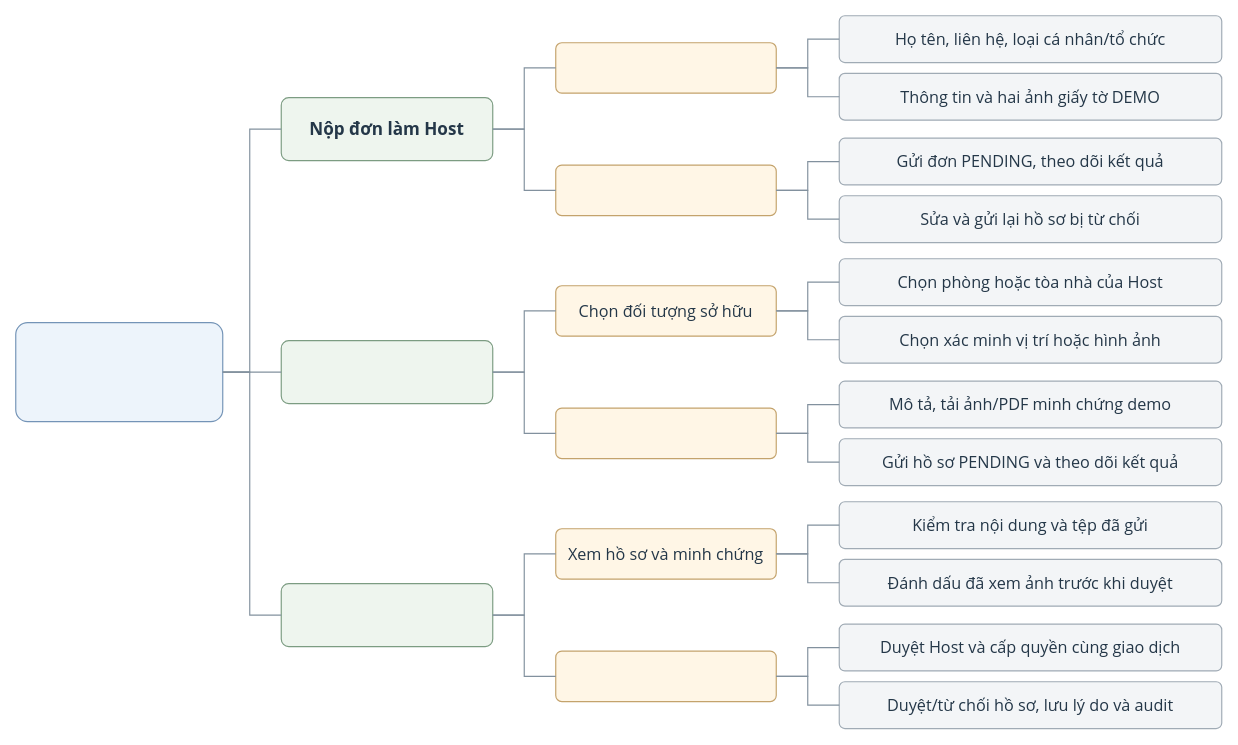
This 1238x745 diagram has some shape labels left out. Each missing label, with the box of its shape:
Admin xét duyệt: (280, 583, 493, 647)
Ghi quyết định: (555, 650, 776, 702)
Gửi và theo dõi hồ sơ: (555, 164, 776, 216)
Nộp minh chứng: (555, 407, 776, 459)
Thông tin người nộp: (555, 42, 776, 93)
Xác minh không gian: (280, 340, 493, 404)
ĐĂNG KÝ HOST VÀ XÁC MINH KHÔNG GIAN: (15, 322, 223, 422)
